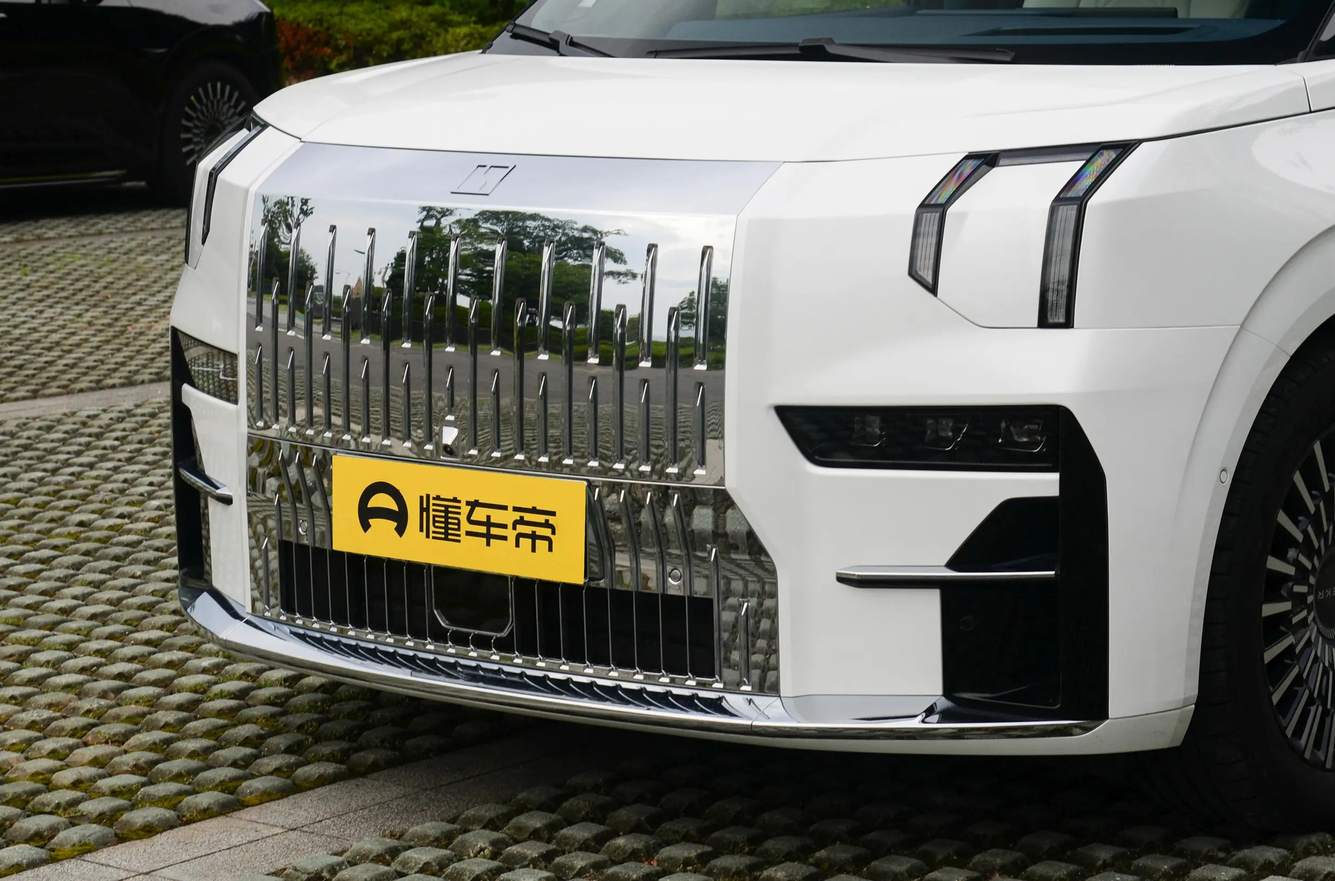ZEEKR: (450, 162, 516, 194)
